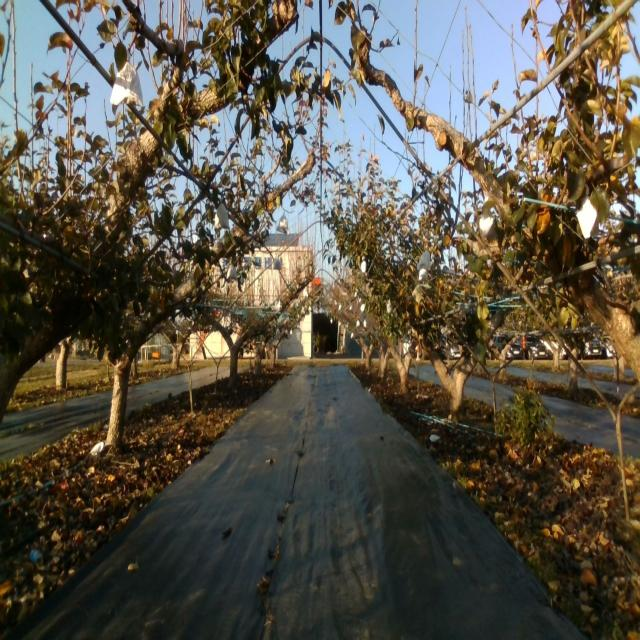pearbags: (109, 61, 145, 106), (577, 194, 599, 243), (478, 204, 494, 240), (212, 203, 229, 230), (276, 212, 290, 235), (417, 249, 431, 271)
